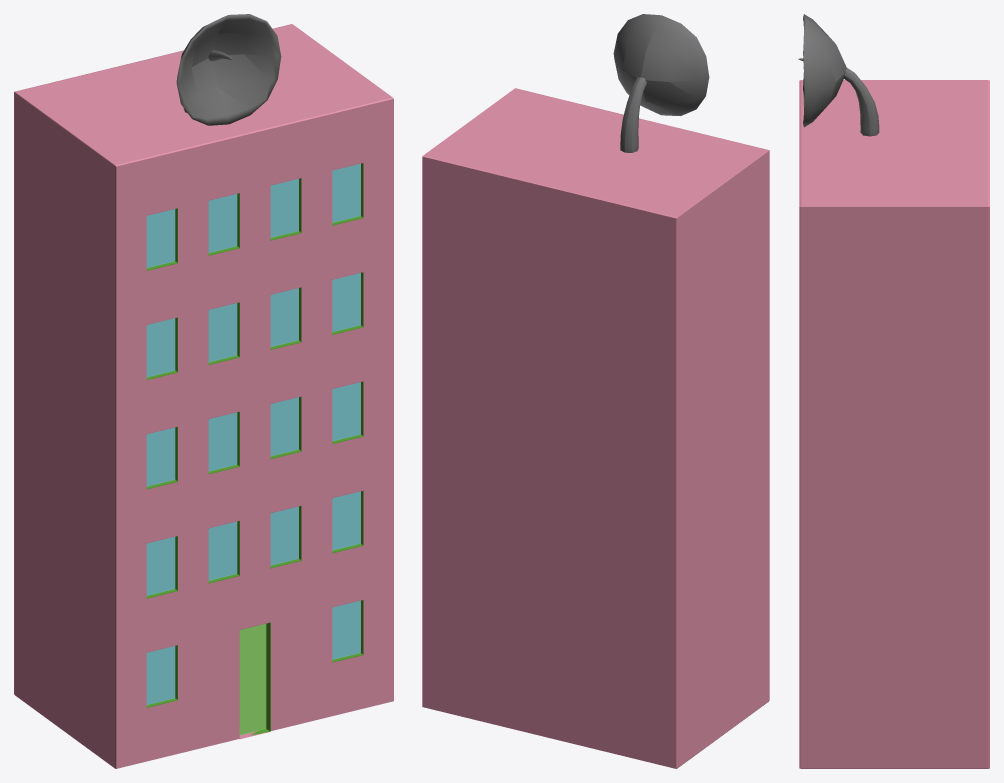
The model's file is House1.fbx.
3 renders of one model, left to right at view 1: azimuth 30°, elevation 25°; view 2: azimuth 150°, elevation 25°; view 3: azimuth 270°, elevation 25°, orthographic. The views are drawn at different scales.
Visible parts, largest first — view 1: Cube.002; view 2: Cube.002; view 3: Cube.002.
Boxes of the visible parts, left/top/right/bottom form: Cube.002: left=14, top=14, right=393, bottom=768; Cube.002: left=422, top=14, right=769, bottom=768; Cube.002: left=798, top=14, right=989, bottom=768.
Bounding box in the file's own units: 315 × 783 × 201.
